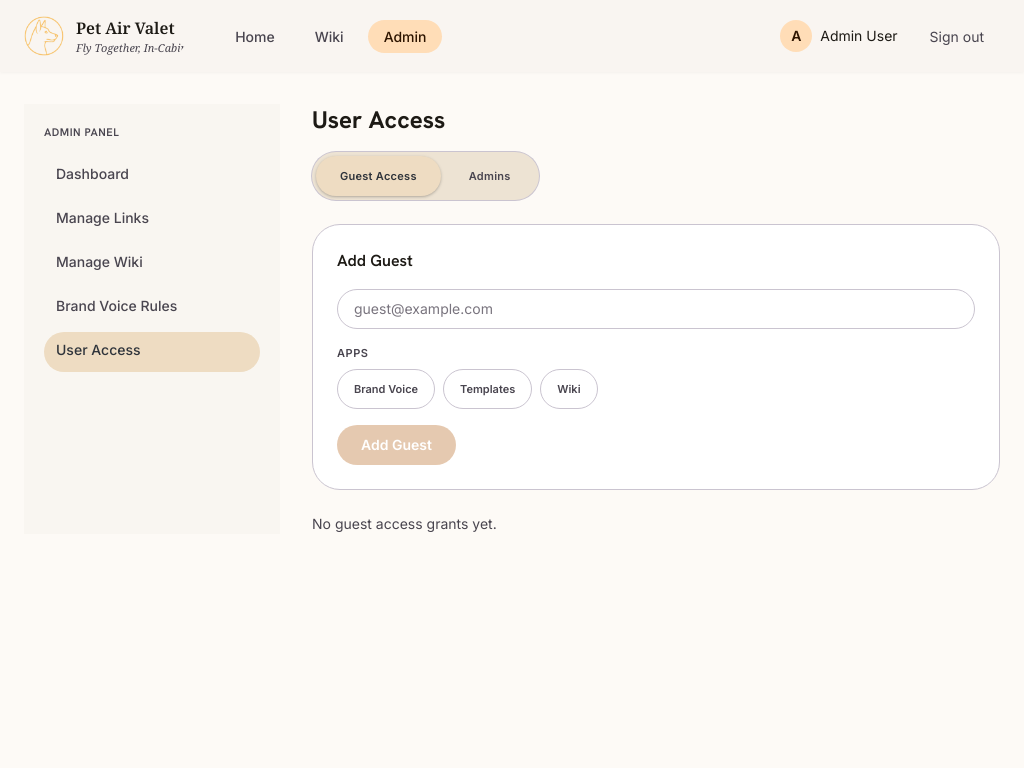
Test: ManageAccessPage › shows empty states for guests and admins tabs
Expected: the text "No guest access grants yet." is shown, 312,515 -> 497,532
Click the button "Admins" at (490, 176), box 445,156 -> 535,196
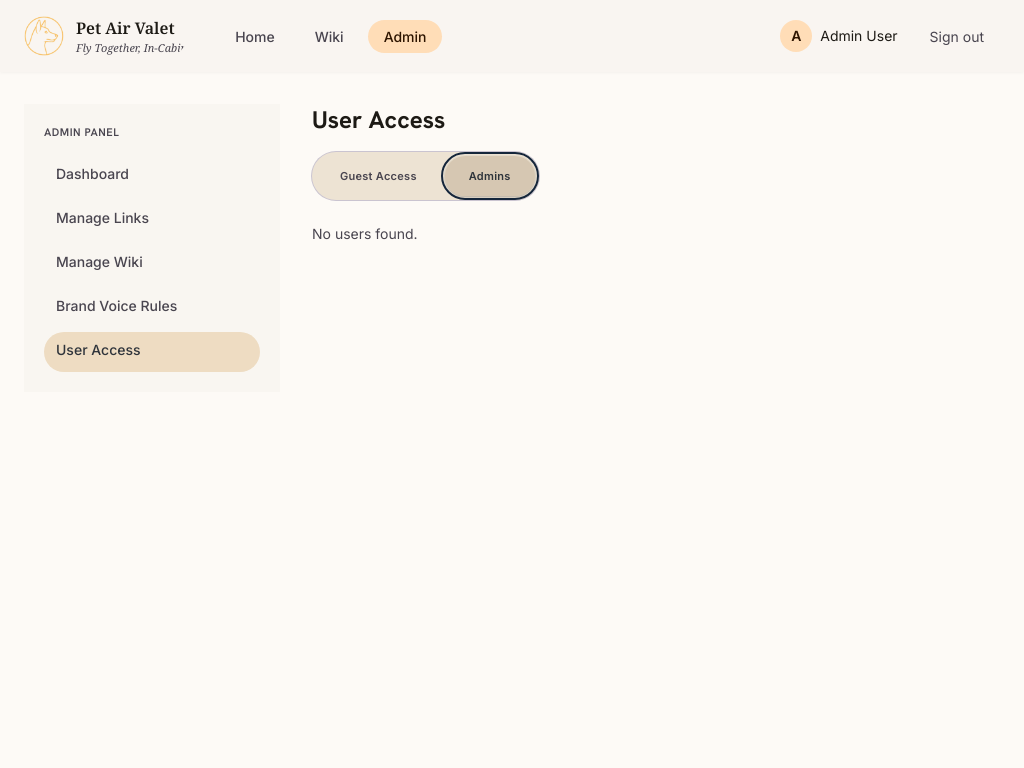
Expected: the text "No users found." is shown, 312,225 -> 418,242
Click the button "Guest Access" at (378, 176), box 316,156 -> 441,196
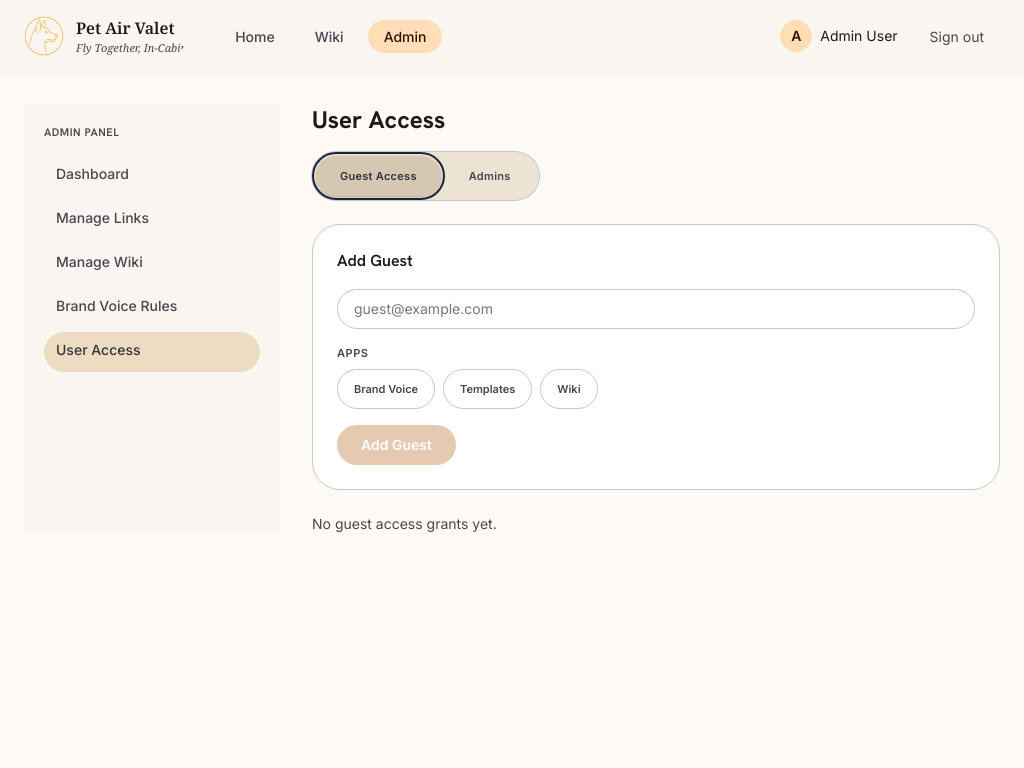
Expected: the text "No guest access grants yet." is shown, 312,515 -> 497,532
